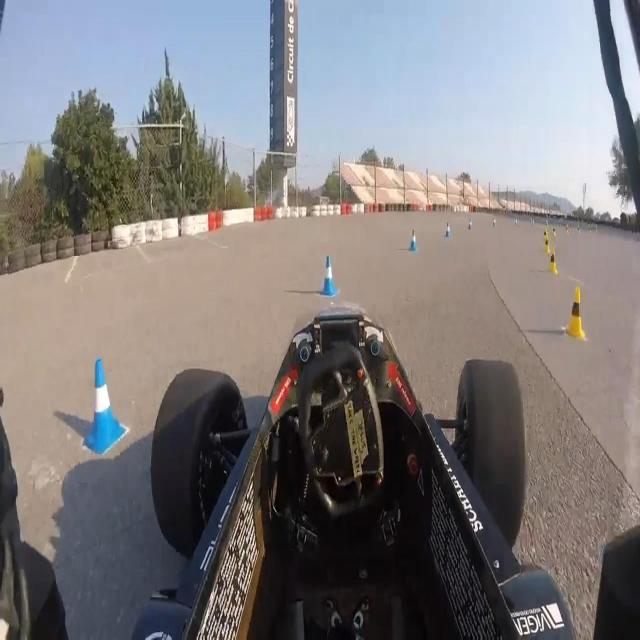blue_cone: (88, 359, 117, 445), (323, 255, 335, 296), (410, 230, 417, 251), (446, 222, 450, 236), (468, 216, 472, 230), (492, 215, 497, 226)
yellow_cone: (567, 287, 583, 338), (550, 247, 556, 277), (544, 236, 550, 254), (543, 225, 548, 245), (552, 224, 556, 236), (566, 224, 569, 235)
